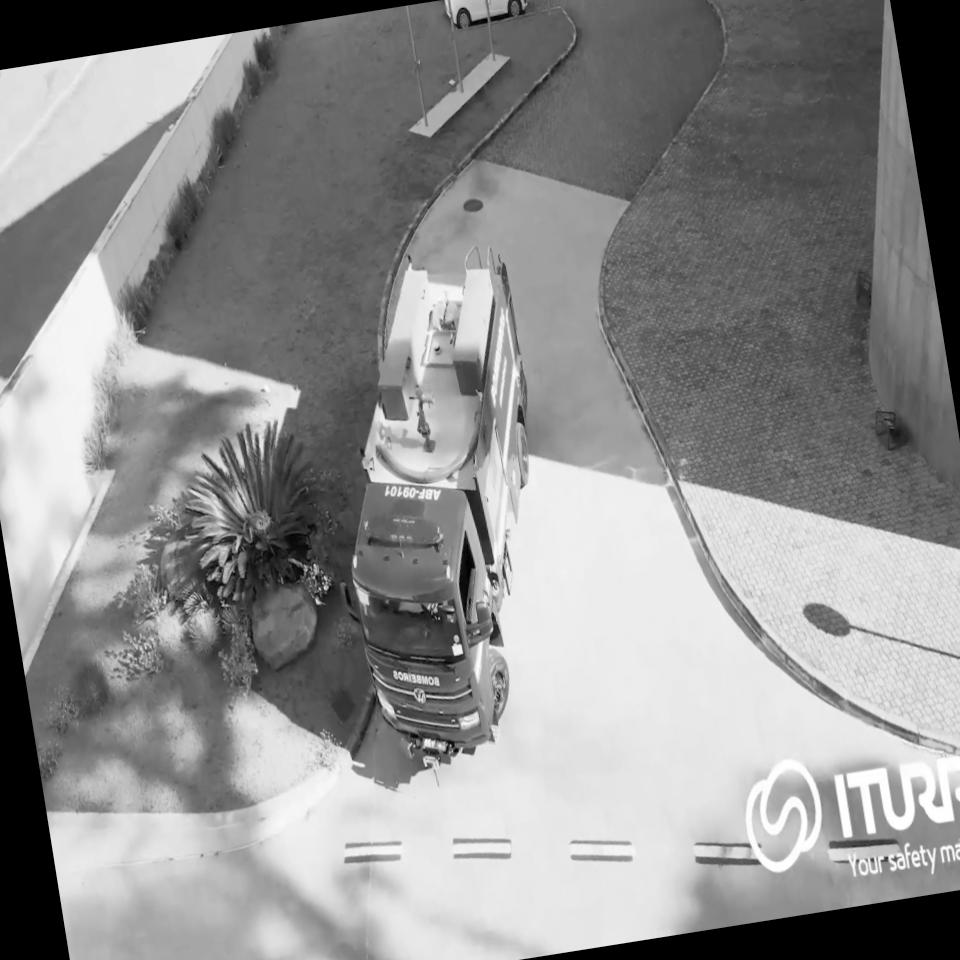viatura: (286, 232, 590, 784)
